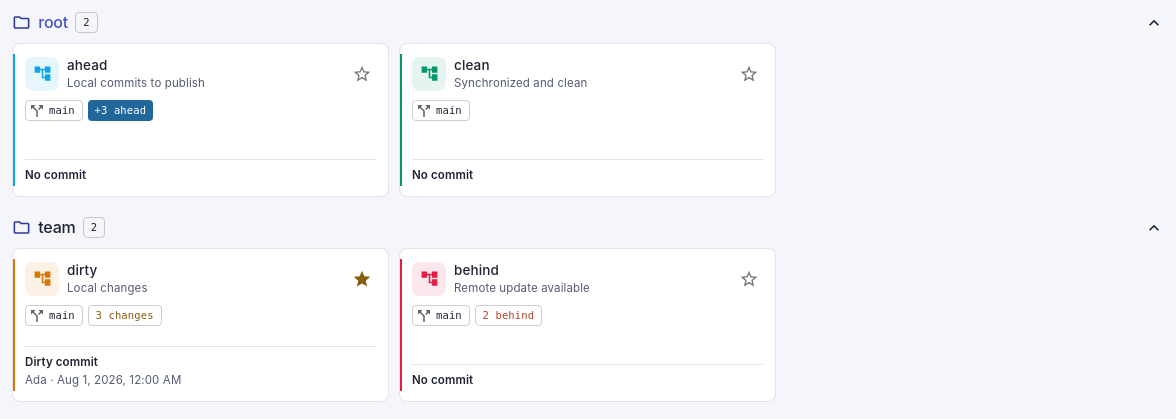
Scenario: WorkspaceMap › groups repositories and exposes all status and interaction branches
Check: the text "Local changes" is shown, box left=67, top=281, right=148, bottom=295
Check: the text "Remote update available" is shown, box left=454, top=281, right=590, bottom=295
Click the button named "Open dirty" at (201,325), box left=13, top=249, right=388, bottom=401
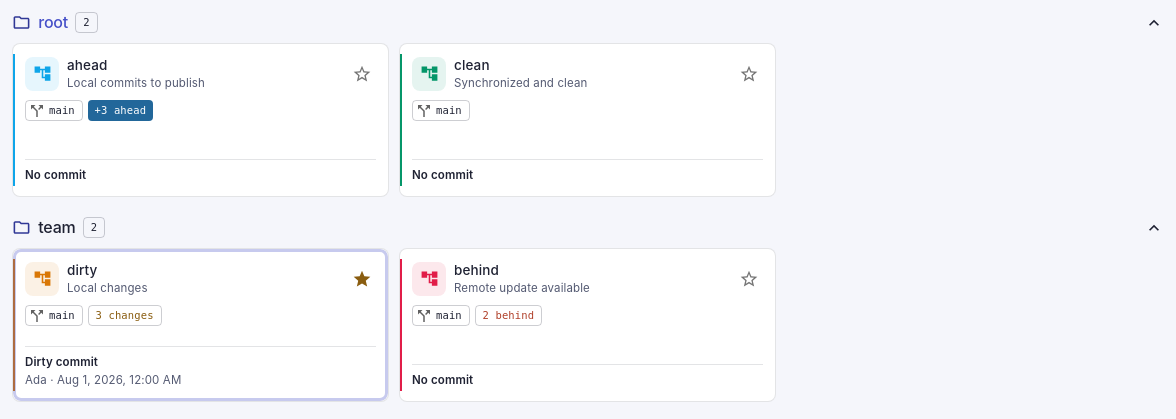
Click the button named "Remove dirty from favorites" at (362,279), box left=348, top=265, right=376, bottom=293
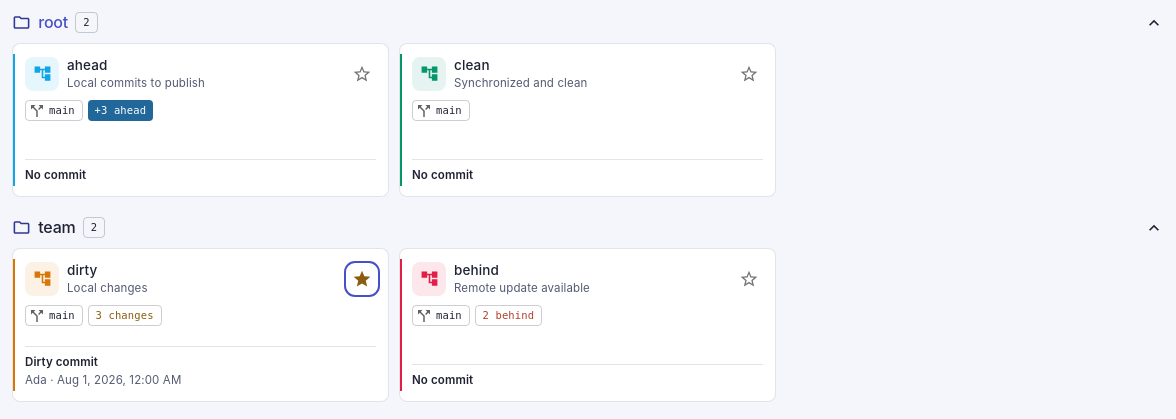
Click the button named "Add behind to favorites" at (750,279), box left=736, top=265, right=764, bottom=293
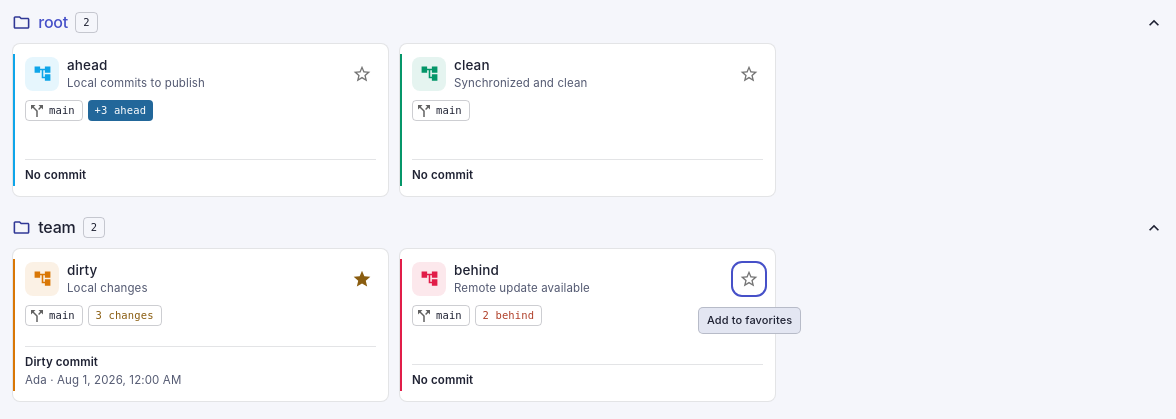
Click the button "team 2" at (57,227), box left=12, top=217, right=1164, bottom=238
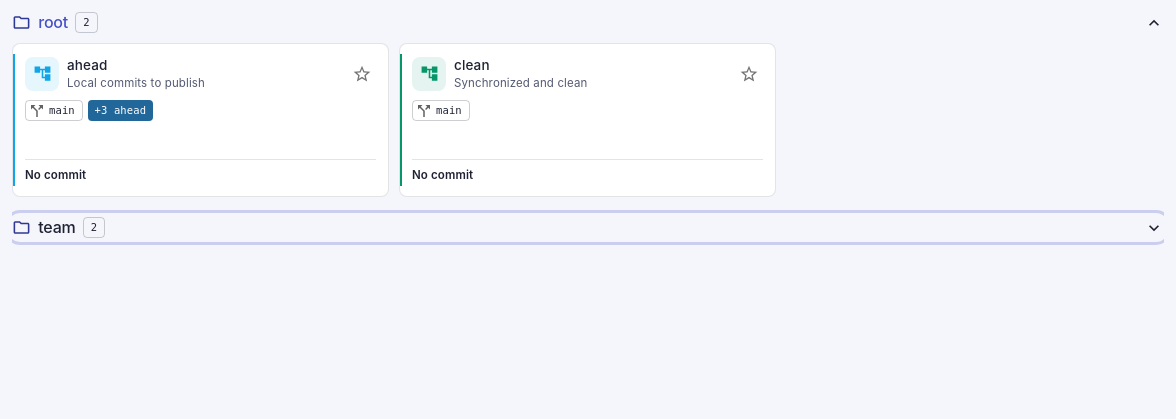
Check: the button "team 2" is collapsed
Click the button "team 2" at (57,227), box left=12, top=217, right=1164, bottom=238
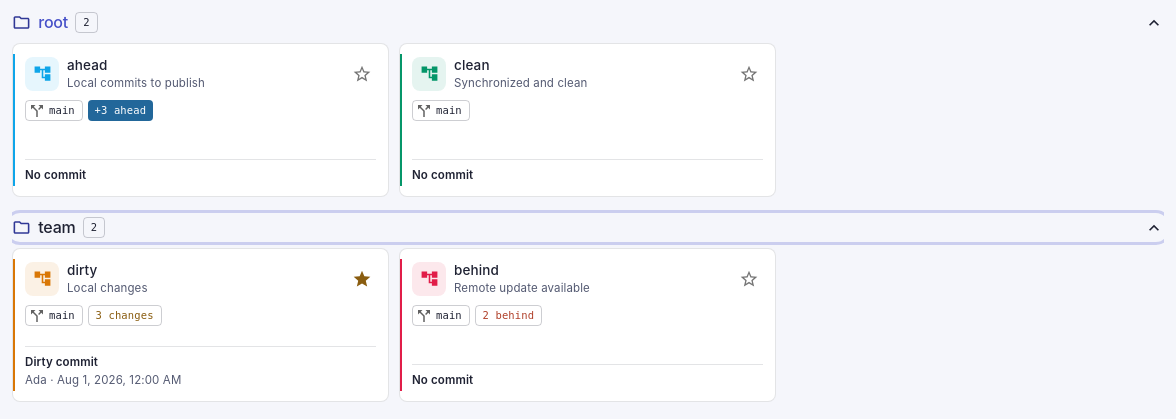
Check: the button "team 2" is expanded, box left=12, top=217, right=1164, bottom=238
